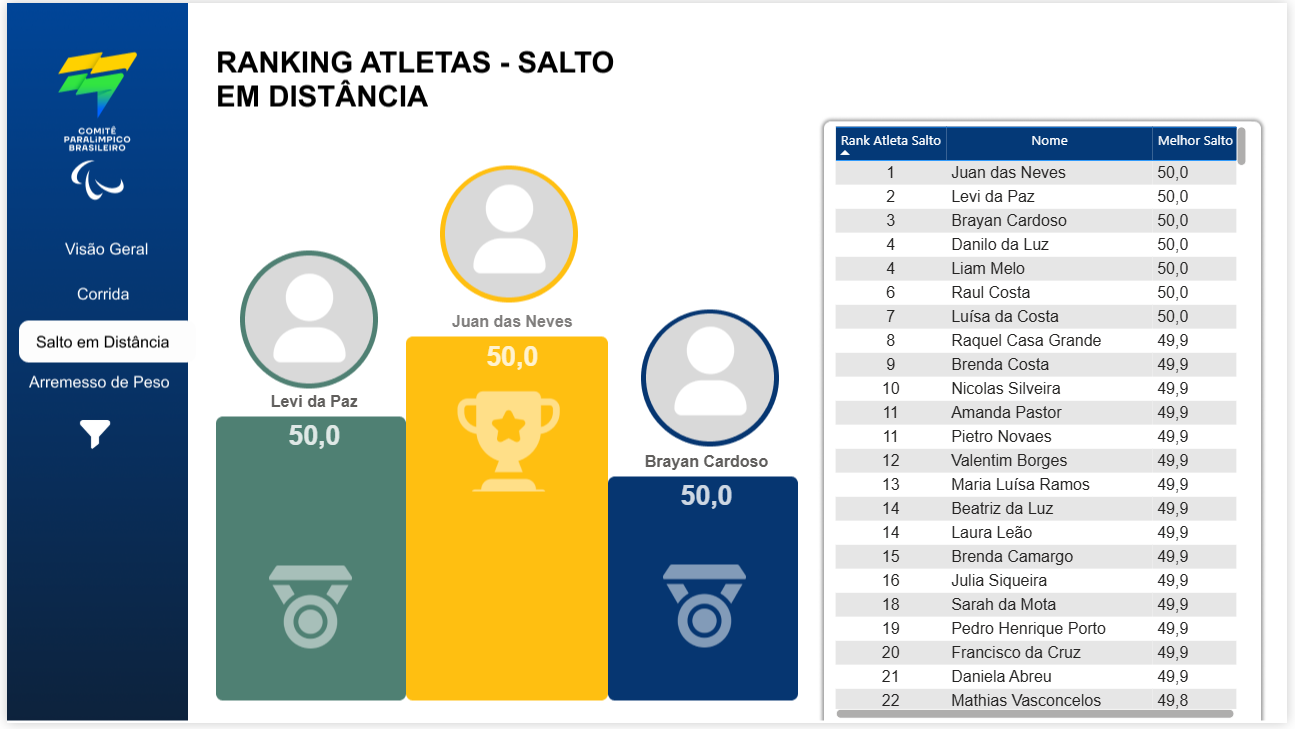

The dashboard page shown, as its layout file describes it:
{"tool":"powerbi","page":{"name":"Ranking Salto em Distância","canvas":[1280,720],"ordinal":2},"visuals":[{"type":"cardVisual","fields":{"Data":["_medidas.top 2 salto"]},"box":[190.9,369.1,232.9,101.8],"z":0},{"type":"cardVisual","fields":{"Data":["_medidas.top 1 salto"]},"box":[398.3,290.2,213.8,100.5],"z":1000},{"type":"cardVisual","fields":{"Data":["_medidas.top 3 salto"]},"box":[595.6,409.8,210,140],"z":2000},{"type":"tableEx","fields":{"Values":["_medidas.rank_atleta_salto","D_atletas.nome","_medidas.melhor_salto"]},"box":[822.9,118.6,421.4,601.4],"z":3000},{"type":"image","box":[52.9,412.9,71.4,35.7],"z":8000},{"type":"actionButton","box":[21.1,226.7,158.9,40],"z":9000},{"type":"actionButton","box":[13.3,316.7,167.8,40],"z":10000},{"type":"actionButton","box":[13.3,356.7,167.8,46.7],"z":11000},{"type":"actionButton","box":[13.3,266.7,167.8,50],"z":12000},{"type":"actionButton","box":[298.8,643.8,55,53.8],"z":14000},{"type":"actionButton","box":[317.1,10,55.7,40],"z":15000}]}

Visuals, with their boxes in screenshot pixels (x1, y1, x2, y2), scaled from the page's 1280x720 canvas onto the 1295x729 screenshot:
cardVisual - _medidas.top 2 salto: bbox=(193, 374, 429, 477)
cardVisual - _medidas.top 1 salto: bbox=(403, 294, 619, 396)
cardVisual - _medidas.top 3 salto: bbox=(603, 415, 815, 557)
tableEx - _medidas.rank_atleta_salto x D_atletas.nome: bbox=(833, 120, 1259, 728)
image: bbox=(54, 418, 126, 454)
actionButton: bbox=(21, 230, 182, 270)
actionButton: bbox=(13, 321, 183, 361)
actionButton: bbox=(13, 361, 183, 408)
actionButton: bbox=(13, 270, 183, 321)
actionButton: bbox=(302, 652, 358, 706)
actionButton: bbox=(321, 10, 377, 51)
